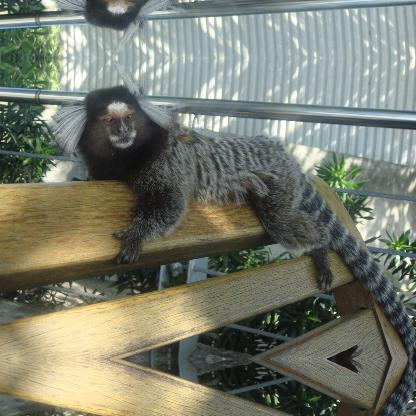Monkey: (49, 62, 415, 358)
